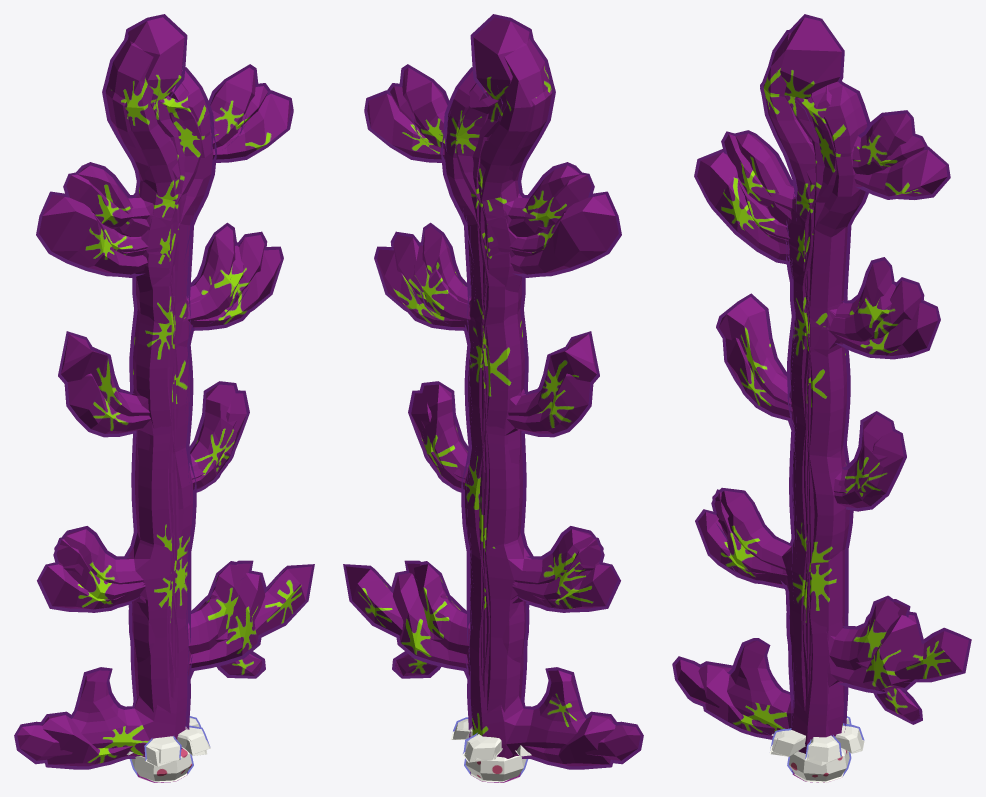
File: corals.glb
The picture shows the model from 3 angles, left to right: view 1: azimuth 30°, elevation 25°; view 2: azimuth 150°, elevation 25°; view 3: azimuth 330°, elevation 25°; orthographic projection.
Visible parts, largest first — view 1: TallCoral.001, TallCoral, TallCoral.002, TallCoral.003, TallCoral.004, SmallCoral.001, SmallCoral; view 2: TallCoral.001, TallCoral, TallCoral.002, TallCoral.003, TallCoral.004, SmallCoral.001; view 3: TallCoral, TallCoral.001, TallCoral.002, TallCoral.004, TallCoral.003, SmallCoral, SmallCoral.001.
Boxes of the visible parts, x1,y1,x2,y2 form: TallCoral.001: (14,79,283,782); TallCoral: (36,14,293,769); TallCoral.002: (54,34,258,782); TallCoral.003: (64,83,249,729); TallCoral.004: (53,66,314,729); SmallCoral.001: (129,717,207,782); SmallCoral: (127,716,210,775); TallCoral.001: (374,79,643,782); TallCoral: (364,14,621,769); TallCoral.002: (399,34,603,782); TallCoral.003: (408,83,593,736); TallCoral.004: (343,66,604,736); SmallCoral.001: (450,718,531,782); TallCoral: (694,14,950,782); TallCoral.001: (672,83,940,782); TallCoral.002: (712,29,915,726); TallCoral.004: (711,79,971,736); TallCoral.003: (722,85,906,726); SmallCoral: (771,716,863,775); SmallCoral.001: (769,717,864,782).
Size of the model in its own units: 1.89 by 4.54 by 0.5618.
Materials: 4 (2 with a texture image).
